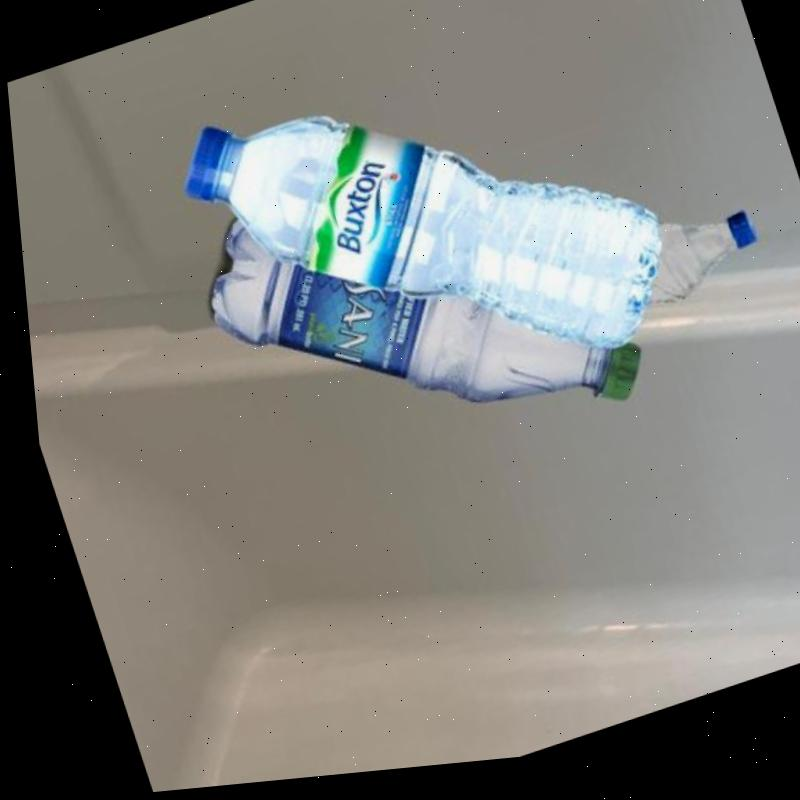botella: (155, 4, 693, 475), (172, 116, 652, 527), (617, 209, 765, 327)
